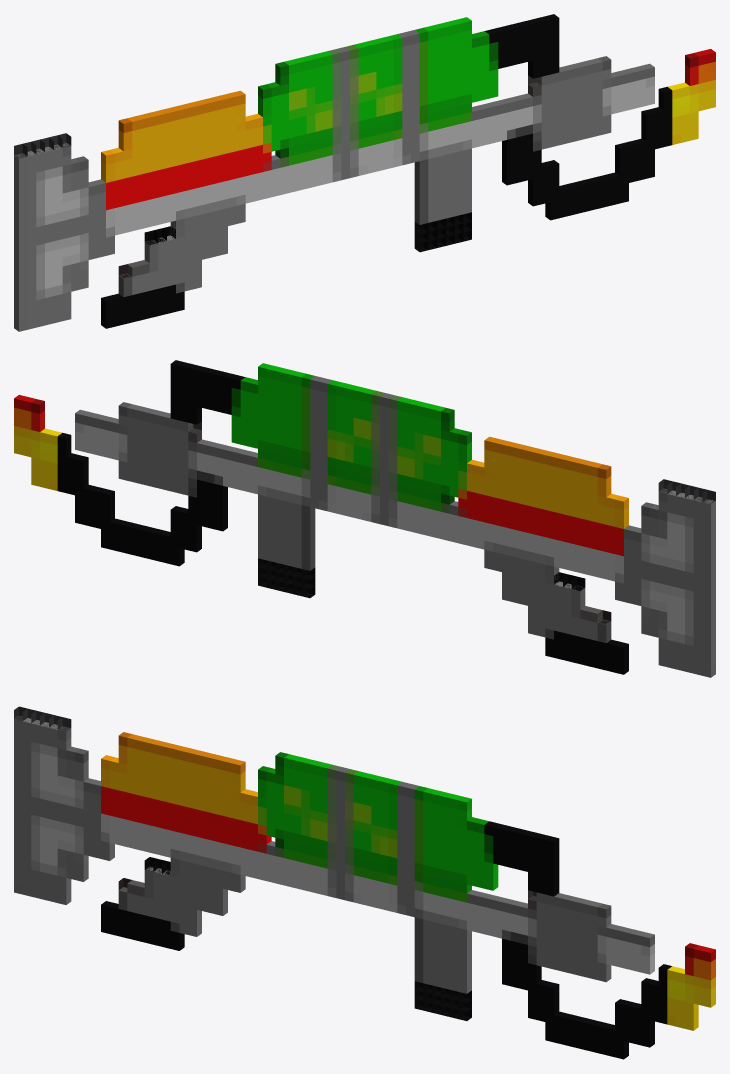
File: pyrorelic.fbx
The picture shows the model from 3 angles, top to bottom: view 1: azimuth 30°, elevation 25°; view 2: azimuth 150°, elevation 25°; view 3: azimuth 330°, elevation 25°; orthographic projection.
Visible parts, largest first — view 1: pyrorelic; view 2: pyrorelic; view 3: pyrorelic.
Boxes of the visible parts, x1,y1,x2,y2 form: pyrorelic: [14, 14, 715, 331]; pyrorelic: [14, 360, 715, 677]; pyrorelic: [14, 706, 715, 1059].
Size of the model in its own units: 7900 by 2370 by 98.75.
